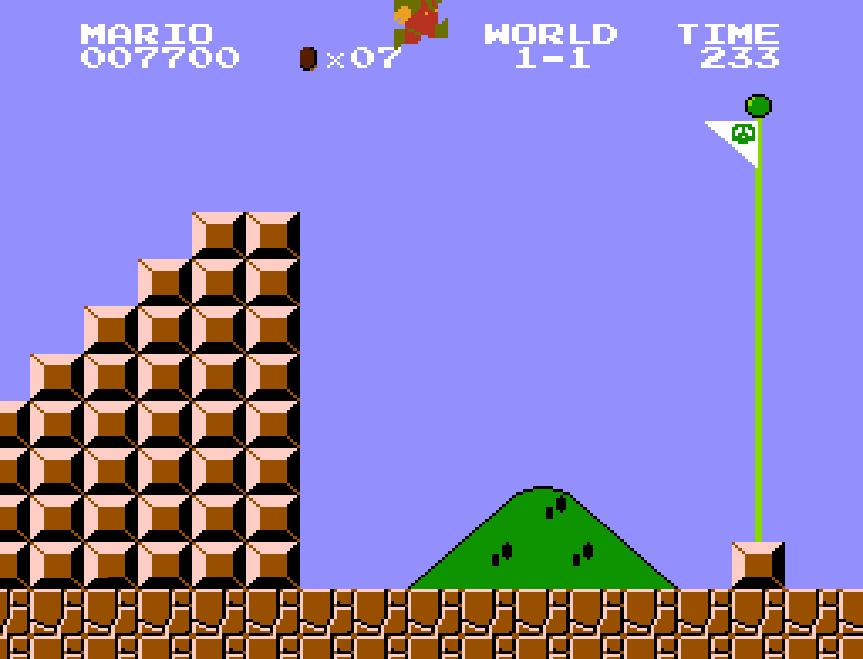big_mario: (392, 0, 450, 50)
